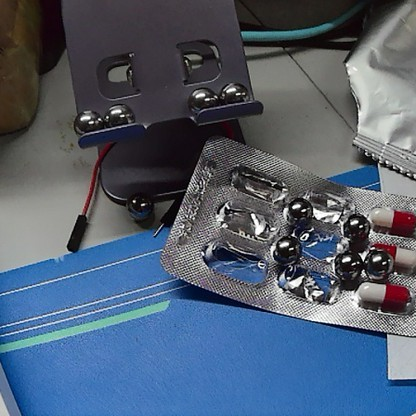ironball: (175, 76, 220, 117), (271, 231, 306, 271), (366, 247, 399, 289), (337, 208, 373, 244), (67, 104, 101, 141), (330, 248, 363, 286), (214, 76, 250, 108), (106, 96, 134, 129), (285, 192, 309, 228)
